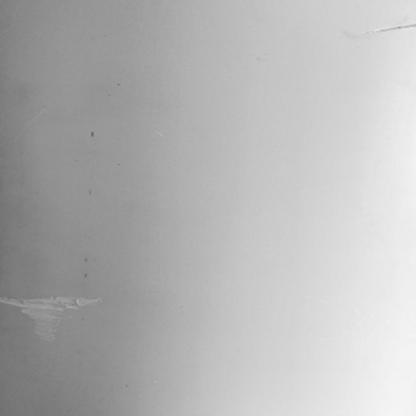sunshang: (1, 296, 103, 342), (350, 23, 416, 42)
